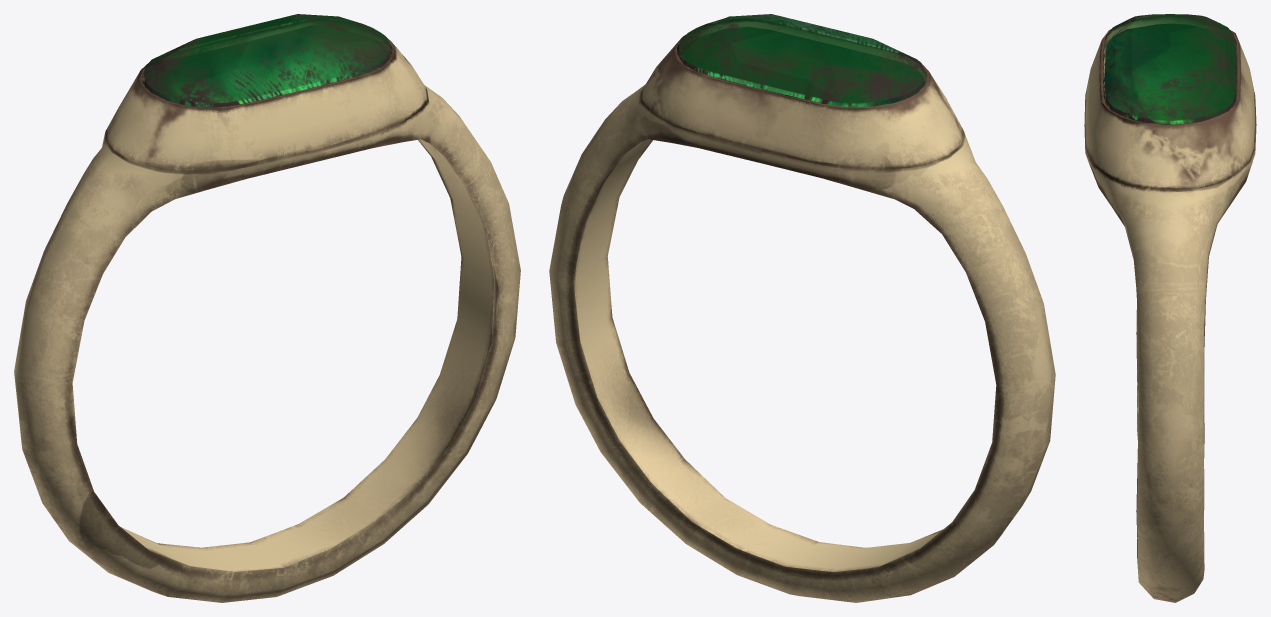
The model's file is gem-ring.glb.
3 renders of one model, left to right at view 1: azimuth 30°, elevation 25°; view 2: azimuth 150°, elevation 25°; view 3: azimuth 270°, elevation 25°, orthographic. The views are drawn at different scales.
Parts seen in each view (by area): view 1: ring_Low, stone_Low; view 2: ring_Low, stone_Low; view 3: ring_Low, stone_Low.
Part boxes in pixels (x1,y1,x2,y2): ring_Low: (14,23,520,602); stone_Low: (142,14,392,107); ring_Low: (549,21,1055,602); stone_Low: (677,14,926,107); ring_Low: (1084,17,1256,602); stone_Low: (1103,14,1237,124).
Bounding box in the file's own units: 0.0286 × 0.0308 × 0.00894.
2 materials, 2 textured.
